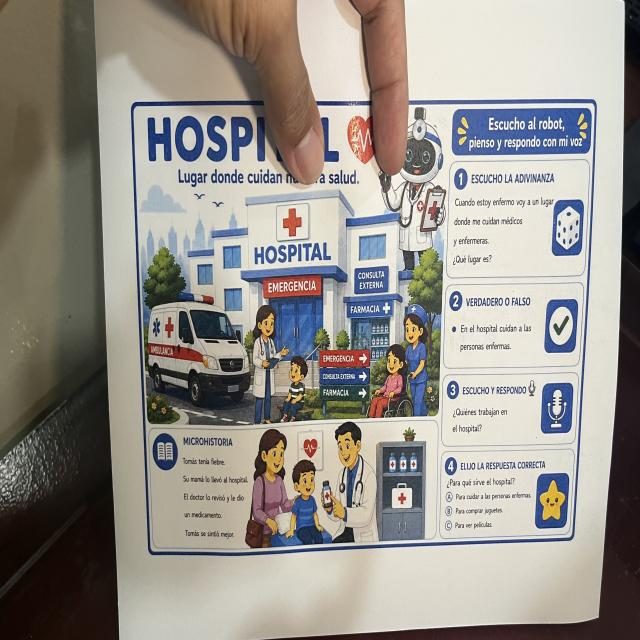hospital: (130, 94, 600, 562)
